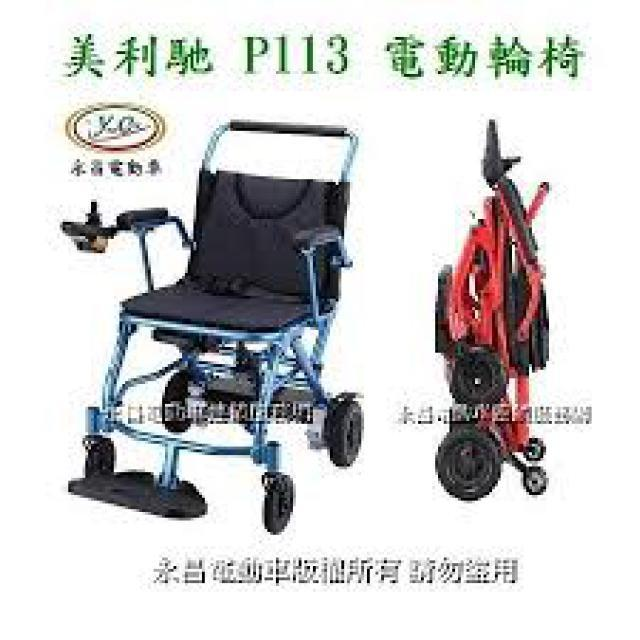wheelchair: (43, 110, 387, 540)
